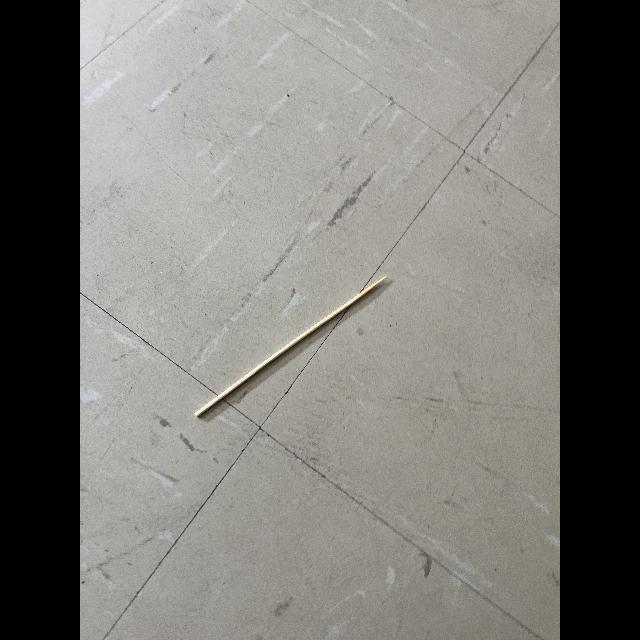stick: (188, 262, 394, 432)
